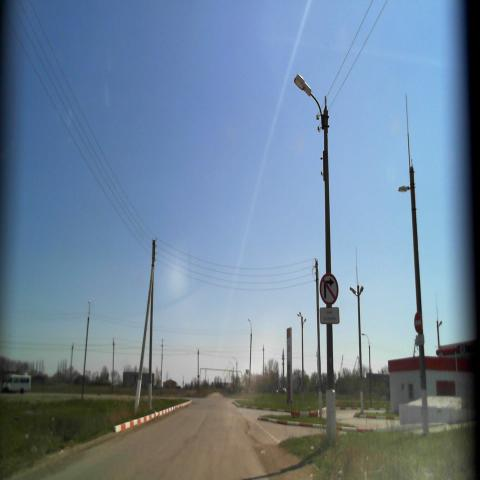3_1: (414, 311, 424, 335)
3_18: (320, 272, 340, 307)
